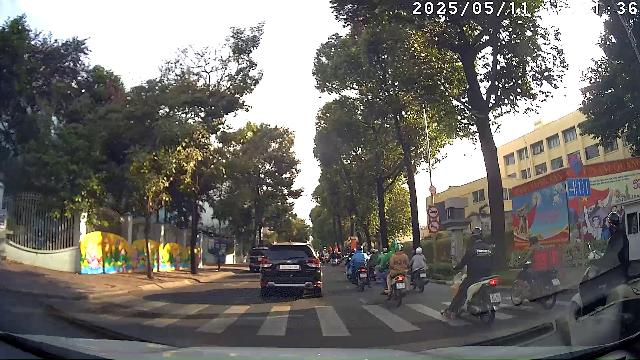128-cam-su-dung-coi: (428, 220, 440, 232)
130-cam-dung-va-do-xe: (568, 155, 584, 177)
